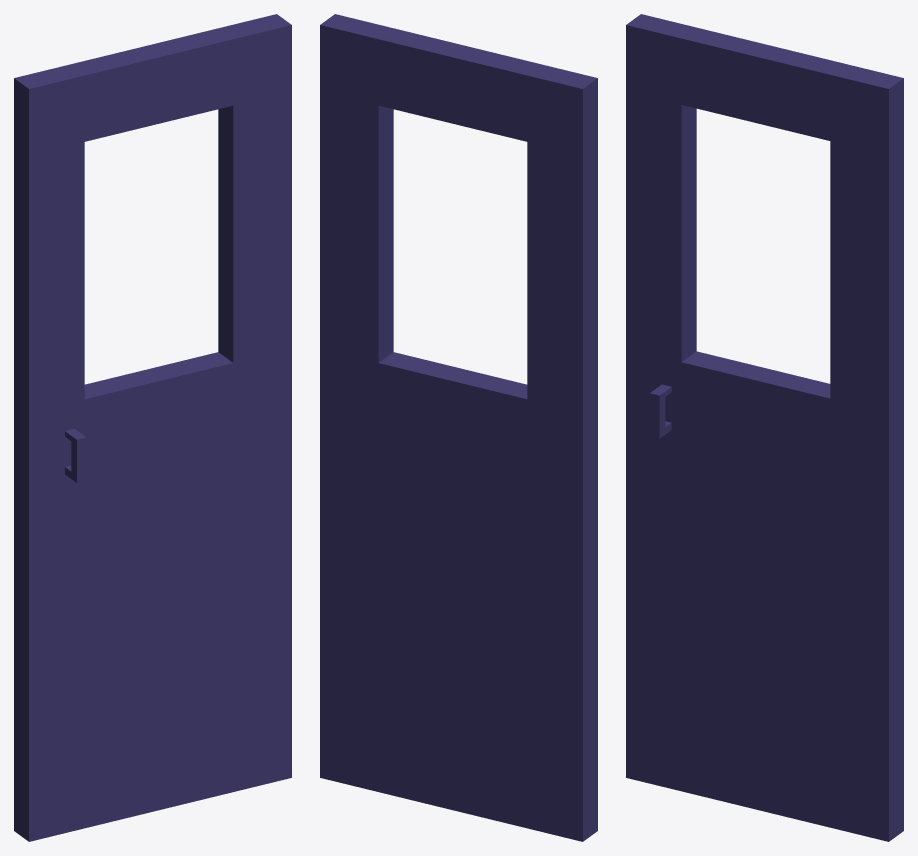
Rendered from Door2.fbx.
3 views of the same model, side by side, from view 1: azimuth 30°, elevation 25°; view 2: azimuth 150°, elevation 25°; view 3: azimuth 330°, elevation 25° (orthographic).
Visible parts, largest first — view 1: Door2; view 2: Door2; view 3: Door2.
Part boxes in pixels (<box>): Door2: <box>14,14,291,841</box>; Door2: <box>320,14,597,841</box>; Door2: <box>626,14,903,841</box>.
Size of the model in its own units: 81.86 by 224 by 14.61.
